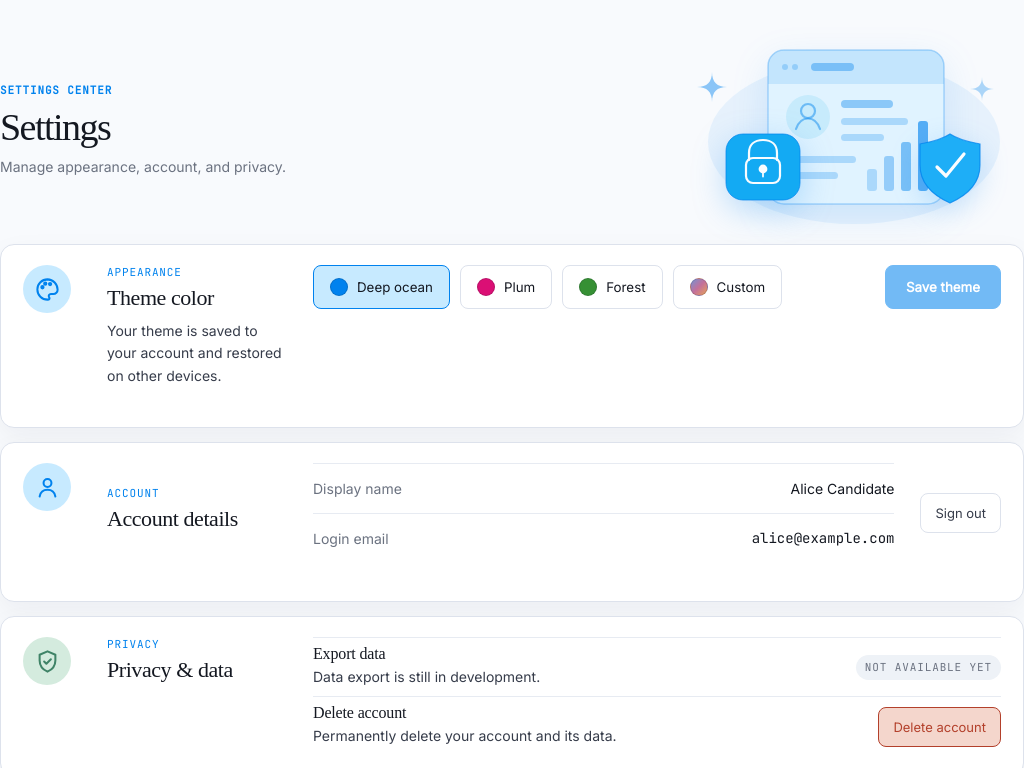
Test: Settings account and privacy contract › opens an accessible destructive dialog, cancels with Escape, and returns focus
Step 1. Click the button "Delete account" → point(940, 727), box [878,707,1001,747]
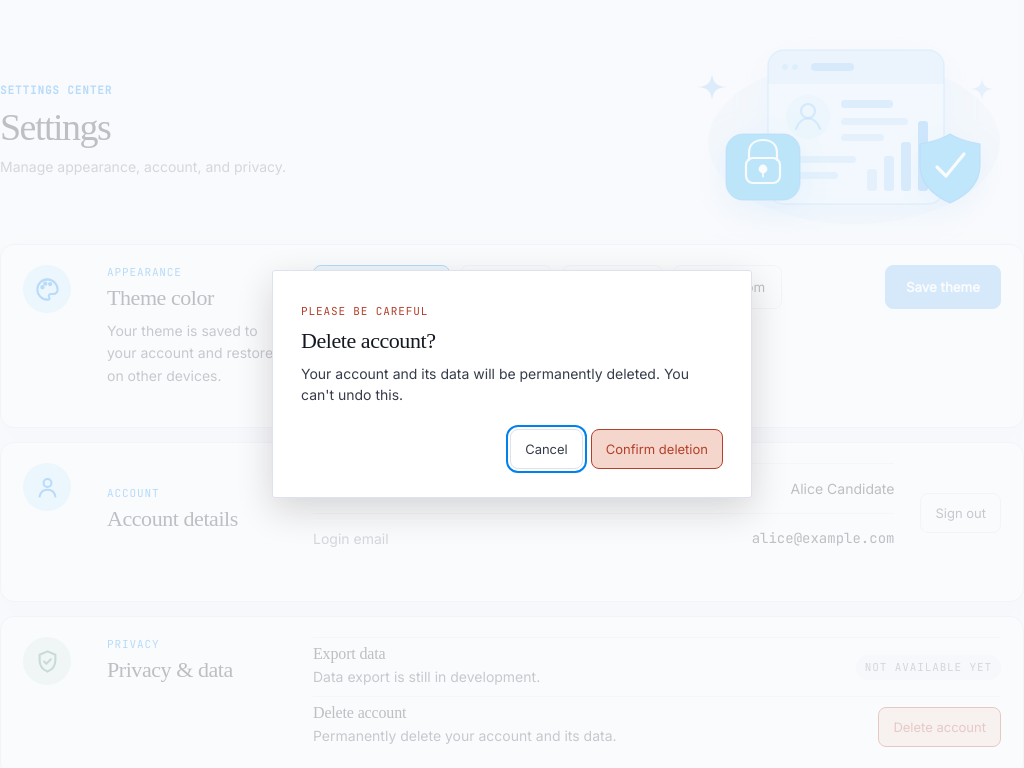
Step 2. Type keys "{Shift>}{Tab}{/Shift}"
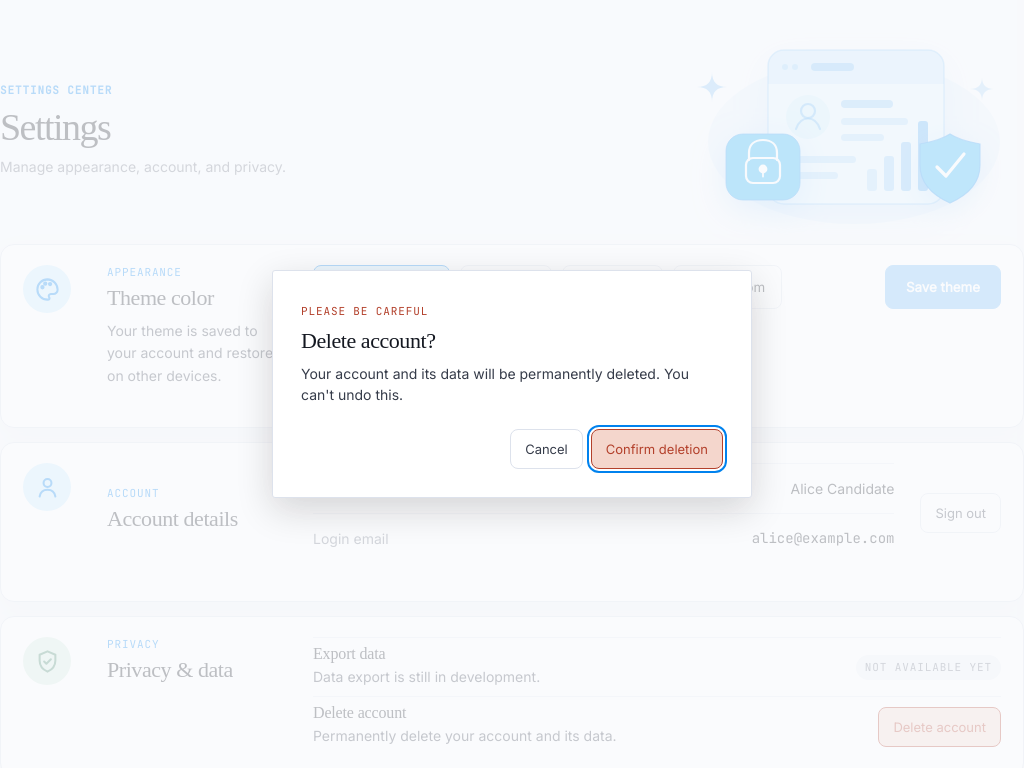
Step 3. Press Tab
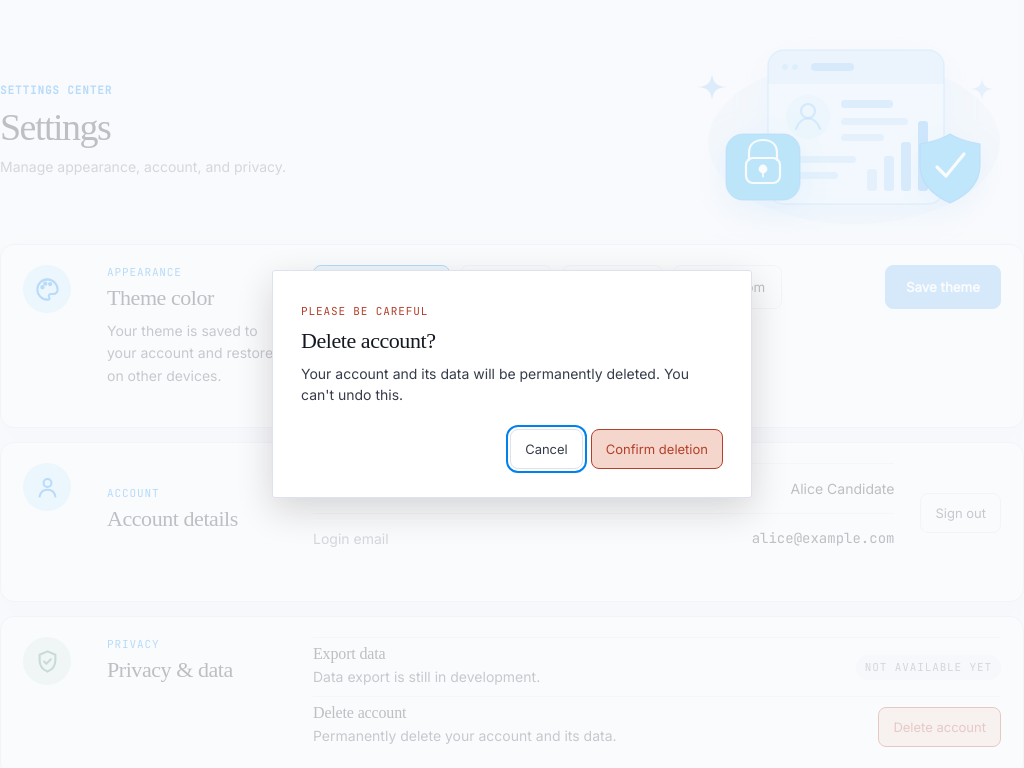
Step 4. Press Escape
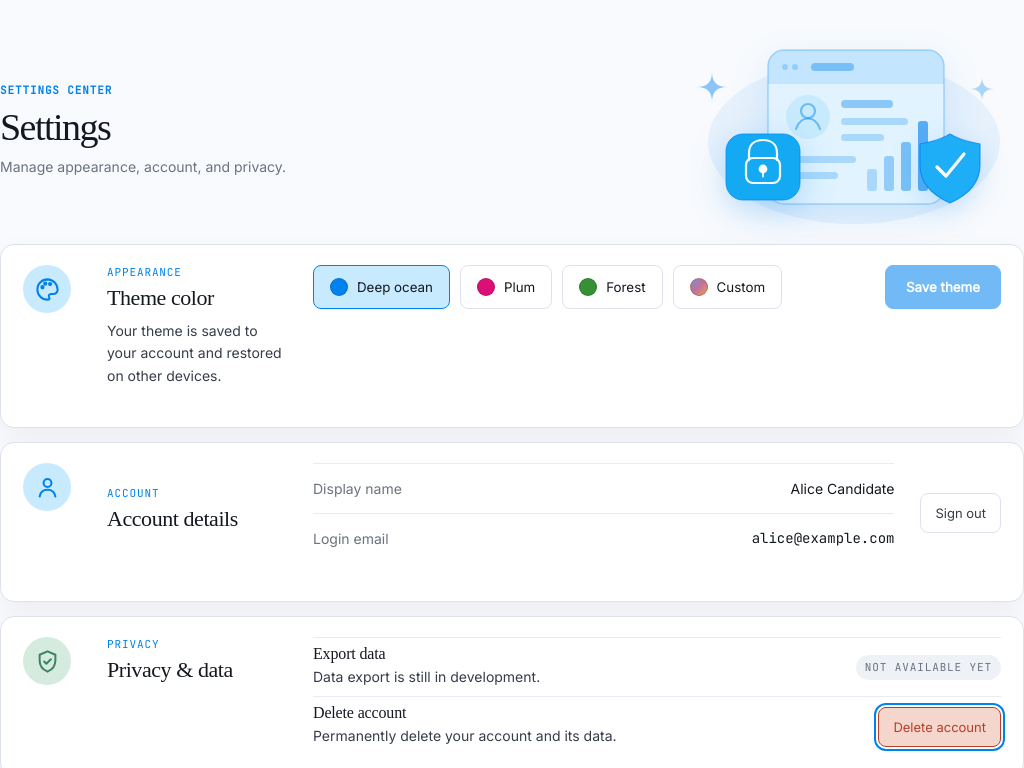
Now the dialog is gone
